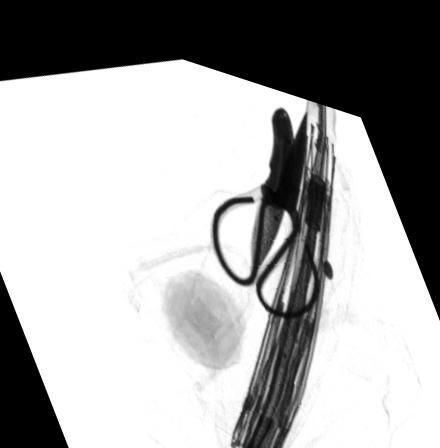Knife: (249, 90, 294, 256)
Scissors: (210, 93, 319, 300)
